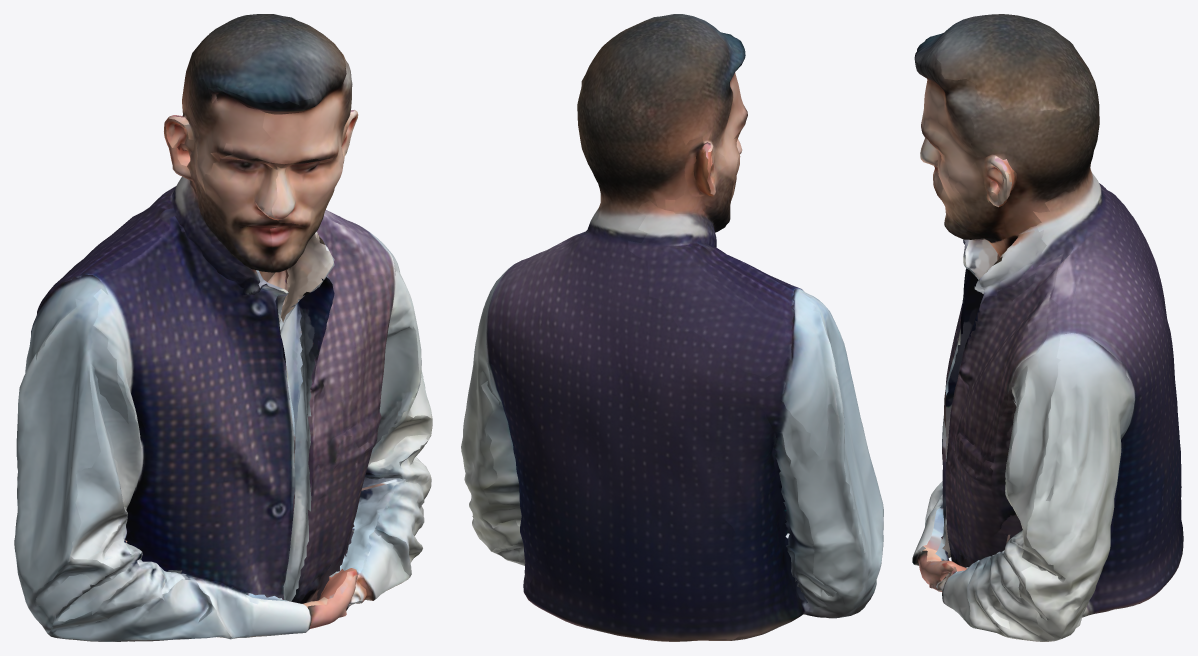
3 views of the same model, side by side, from view 1: azimuth 30°, elevation 25°; view 2: azimuth 150°, elevation 25°; view 3: azimuth 270°, elevation 25° (orthographic). The views are drawn at different scales.
Visible parts, largest first — view 1: tmp2ha2xgmm.ply; view 2: tmp2ha2xgmm.ply; view 3: tmp2ha2xgmm.ply.
Part boxes in pixels (x1,y1,x2,y2): tmp2ha2xgmm.ply: (14,14,432,641); tmp2ha2xgmm.ply: (461,14,883,641); tmp2ha2xgmm.ply: (912,14,1183,641).
Bounding box in the file's own units: 1.47 × 1.96 × 0.8721.
1 material, 1 textured.
